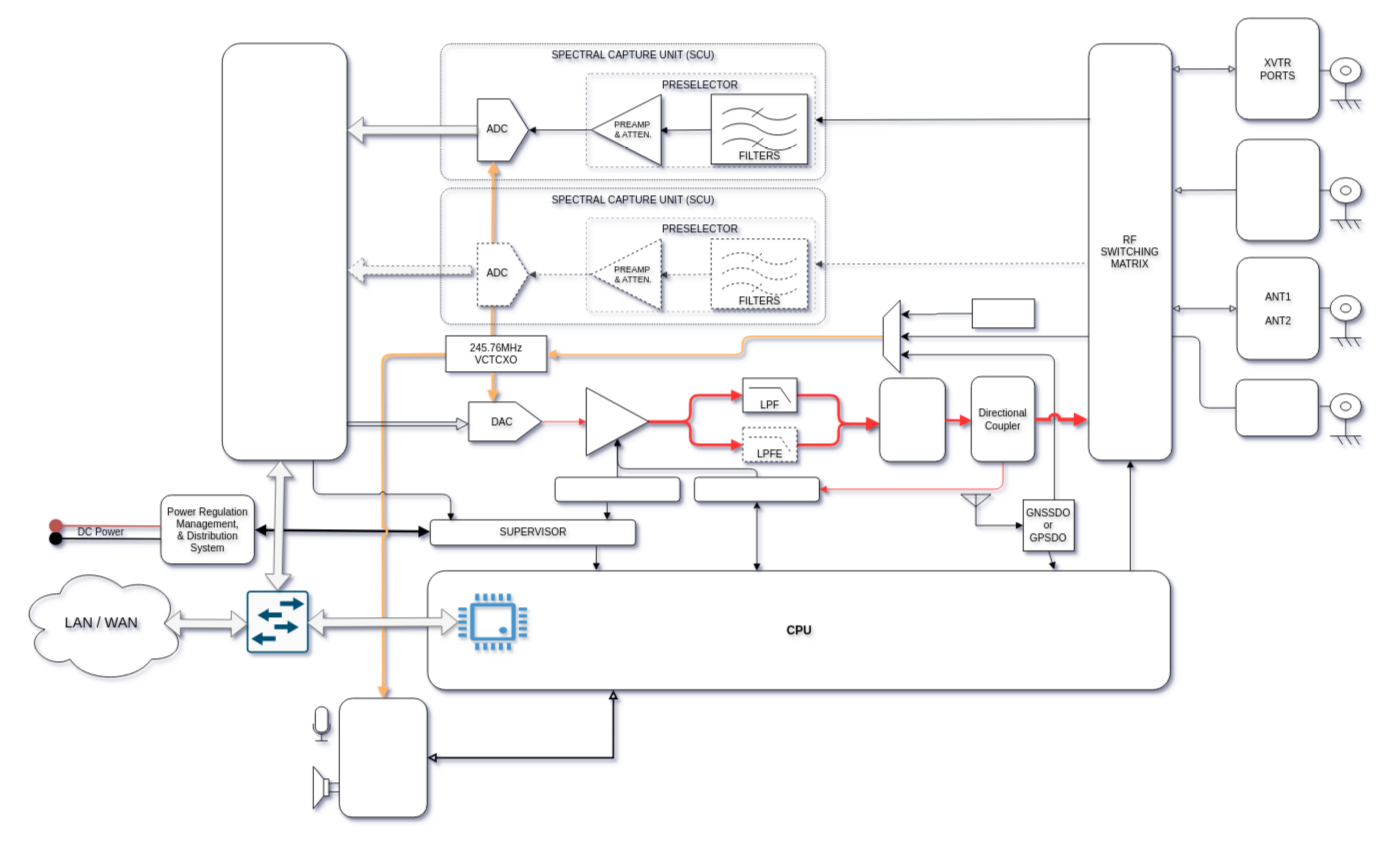
Some shapes in this 1386 by 843 pixel diagram are drawn without their labels. The shapes that lost their labels are listed below. From the top down, each one's centre as x and y in pixels, then its label:
(1278,190): RX INPUTS
(285,252): FPGA (DSP)
(1003,313): 10MHz TCXO
(618,422): 100W PA
(912,421): ATU
(1277,408): EXT 10MHz
(618,490): THERMAL MGMT
(757,490): SWR PROTECTION
(277,621): 1Gbps Ethernet Switch
(493,622): BASEBAND PROCESSOR
(383,758): AUDIO DSP/CODEC
